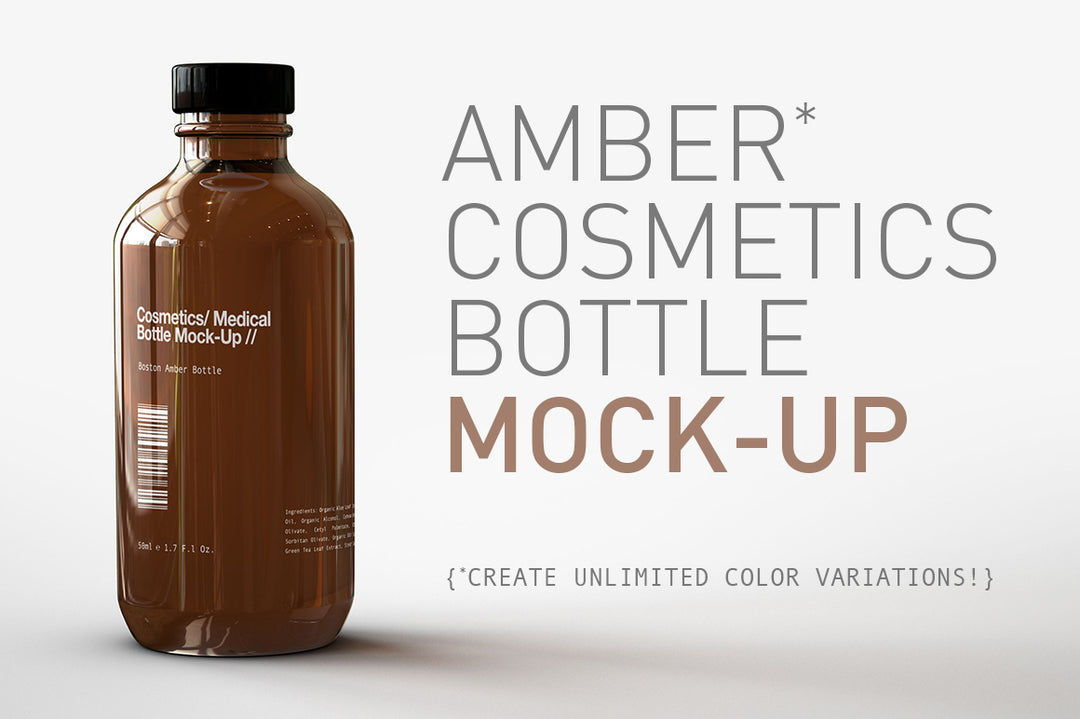Medicine: (96, 52, 370, 676)
